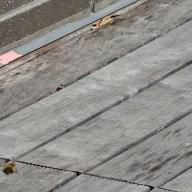Bee: (0, 159, 25, 177)
